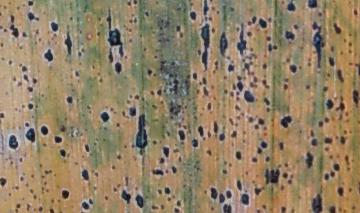tarspot: (105, 5, 125, 59), (309, 20, 325, 70), (133, 112, 150, 150), (199, 21, 210, 74), (236, 20, 248, 61), (218, 29, 229, 59), (310, 192, 325, 213), (24, 127, 39, 148), (41, 45, 56, 66), (262, 167, 280, 184), (63, 28, 73, 57), (78, 196, 95, 213), (7, 133, 21, 153), (166, 77, 179, 98), (279, 114, 295, 131), (174, 127, 188, 145), (304, 150, 316, 170), (349, 87, 360, 108), (120, 188, 132, 205), (243, 89, 255, 106), (243, 60, 255, 77), (200, 1, 210, 21), (47, 18, 61, 32), (284, 30, 297, 45), (304, 1, 320, 13), (257, 14, 268, 31), (284, 1, 298, 14), (239, 193, 251, 208), (8, 24, 20, 39), (208, 185, 219, 201), (332, 20, 343, 36), (335, 67, 345, 84), (26, 11, 40, 23), (149, 167, 164, 178), (106, 46, 115, 64), (52, 133, 64, 146), (81, 169, 92, 183), (99, 110, 110, 124), (39, 124, 50, 138), (187, 9, 198, 23), (160, 144, 171, 158), (60, 188, 72, 200), (183, 74, 191, 92), (260, 78, 271, 91), (82, 141, 92, 155), (190, 136, 200, 150), (196, 122, 204, 139), (135, 194, 144, 209), (57, 147, 68, 159), (327, 54, 336, 68), (17, 62, 28, 73), (235, 178, 243, 193), (112, 61, 122, 73), (170, 164, 180, 176), (253, 185, 263, 197), (260, 139, 270, 151), (335, 101, 345, 113), (248, 79, 260, 89), (212, 119, 219, 136), (325, 98, 334, 111), (323, 136, 334, 146), (128, 105, 137, 117), (65, 94, 74, 106), (236, 81, 245, 93), (338, 135, 347, 147), (354, 60, 360, 78), (123, 174, 130, 189), (337, 186, 345, 199), (344, 153, 352, 166), (202, 85, 210, 98), (256, 116, 266, 126), (262, 96, 272, 106), (59, 124, 68, 135), (287, 64, 298, 73), (24, 202, 33, 213), (21, 72, 30, 83), (127, 92, 136, 103), (206, 100, 213, 114), (322, 172, 330, 184), (250, 14, 258, 26), (218, 131, 226, 143), (191, 71, 199, 83), (226, 115, 234, 127), (278, 140, 285, 153), (266, 41, 273, 54), (327, 204, 337, 213), (278, 204, 288, 213), (222, 203, 231, 213), (109, 163, 119, 172), (250, 155, 260, 164), (309, 138, 319, 147), (227, 63, 235, 74), (308, 127, 316, 138), (230, 129, 238, 140), (73, 68, 81, 79), (219, 192, 226, 204), (1, 176, 8, 188), (235, 150, 242, 162), (9, 13, 16, 25), (43, 168, 55, 175), (213, 59, 220, 71), (163, 186, 172, 195), (150, 204, 159, 213), (26, 102, 35, 111), (26, 85, 35, 94), (333, 162, 341, 172), (115, 152, 123, 162), (156, 156, 166, 164), (220, 168, 230, 176), (201, 76, 209, 86), (317, 120, 325, 130), (264, 35, 274, 43), (13, 203, 21, 213), (21, 30, 29, 40), (167, 104, 175, 114), (336, 112, 344, 122), (205, 148, 214, 156), (281, 83, 290, 91), (280, 171, 289, 179), (264, 106, 272, 115), (10, 75, 19, 83), (7, 57, 15, 66), (172, 146, 181, 154), (146, 68, 153, 78), (352, 7, 359, 17), (174, 23, 181, 33), (134, 92, 141, 102), (247, 114, 254, 124), (245, 54, 256, 60), (165, 196, 173, 204), (178, 32, 186, 40), (282, 76, 290, 84), (148, 88, 156, 96), (263, 155, 271, 163), (236, 74, 244, 82), (41, 140, 49, 148), (304, 83, 311, 92), (329, 45, 336, 54), (321, 85, 330, 92), (322, 146, 331, 153), (292, 22, 299, 31), (346, 49, 355, 56), (37, 204, 44, 213), (18, 156, 25, 165), (93, 169, 100, 178), (222, 88, 229, 97), (97, 76, 104, 85), (122, 142, 129, 151), (226, 189, 232, 199), (173, 207, 183, 213), (160, 203, 166, 213), (19, 175, 25, 185), (156, 86, 162, 96), (23, 120, 30, 128), (175, 199, 182, 207), (31, 77, 39, 84), (347, 41, 354, 49), (325, 71, 333, 78), (29, 172, 36, 180), (16, 81, 24, 88), (2, 27, 9, 35), (132, 16, 139, 24), (261, 62, 268, 70), (228, 90, 235, 98), (210, 26, 217, 34), (176, 155, 183, 163), (49, 197, 56, 205), (138, 32, 145, 40), (248, 47, 255, 55), (243, 169, 250, 177), (279, 184, 287, 191), (329, 170, 335, 179), (347, 185, 353, 194), (324, 115, 330, 124), (115, 121, 121, 130), (120, 109, 126, 118), (260, 202, 269, 208), (235, 114, 241, 123), (228, 6, 237, 12), (68, 13, 74, 22), (165, 130, 171, 139), (165, 166, 170, 176), (231, 82, 236, 92), (350, 205, 357, 212), (286, 178, 293, 185), (6, 191, 13, 198), (126, 1, 133, 8), (111, 186, 118, 193), (283, 161, 290, 168), (222, 74, 229, 81), (152, 54, 159, 61), (127, 27, 134, 34), (80, 46, 87, 53), (47, 207, 55, 213), (103, 193, 109, 201), (27, 1, 35, 7), (273, 43, 279, 51), (347, 61, 355, 67), (31, 194, 39, 200), (131, 1, 137, 9), (115, 182, 123, 188), (233, 104, 241, 110), (239, 138, 247, 144), (127, 38, 135, 44), (338, 94, 344, 102), (256, 146, 261, 155), (150, 104, 159, 109), (203, 188, 208, 197), (357, 180, 360, 194), (290, 206, 296, 213), (152, 71, 158, 78), (253, 125, 260, 131), (156, 188, 163, 194), (338, 49, 345, 55), (255, 207, 262, 213), (233, 121, 239, 128), (215, 9, 221, 16), (211, 4, 217, 11), (170, 60, 176, 67), (37, 162, 44, 168), (73, 160, 80, 166), (91, 64, 97, 71), (76, 51, 83, 57), (246, 29, 253, 35), (210, 205, 216, 212), (222, 160, 229, 166), (342, 128, 348, 135), (338, 205, 343, 213), (1, 111, 6, 119), (211, 68, 216, 76), (85, 104, 93, 109), (345, 166, 351, 172), (347, 31, 353, 37), (298, 129, 304, 135), (252, 77, 258, 83), (227, 162, 233, 168), (141, 46, 147, 52), (95, 31, 101, 37), (97, 16, 103, 22), (144, 10, 149, 17), (328, 154, 333, 160), (28, 188, 34, 193), (128, 18, 133, 24), (241, 129, 246, 135), (152, 140, 158, 145), (43, 179, 48, 185), (40, 173, 46, 178), (87, 110, 94, 114), (342, 208, 347, 213), (263, 132, 268, 137), (45, 188, 50, 193), (1, 24, 4, 31), (1, 11, 3, 18)
